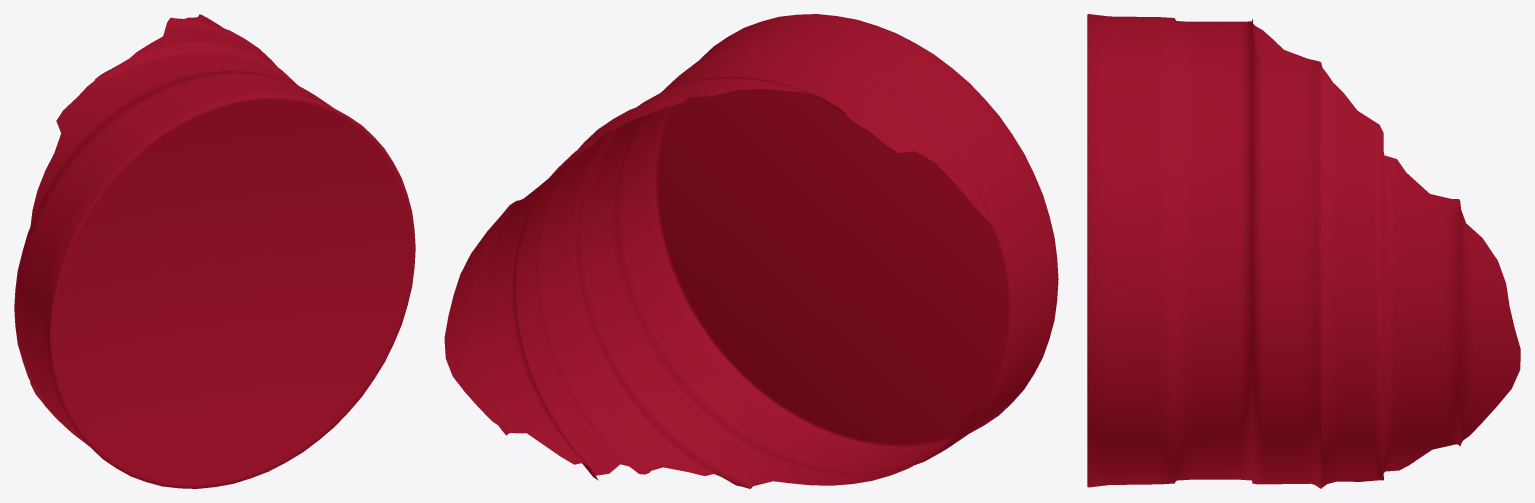
The model's file is BrokenContainer.fbx.
3 views of the same model, side by side, from view 1: azimuth 30°, elevation 25°; view 2: azimuth 150°, elevation 25°; view 3: azimuth 270°, elevation 25° (orthographic). The views are drawn at different scales.
Parts seen in each view (by area): view 1: RoundContainer; view 2: RoundContainer; view 3: RoundContainer.
Part boxes in pixels (x1,y1,x2,y2): RoundContainer: (14, 14, 415, 488); RoundContainer: (444, 14, 1058, 488); RoundContainer: (1087, 14, 1520, 488).
Size of the model in its own units: 203 by 202 by 185.
